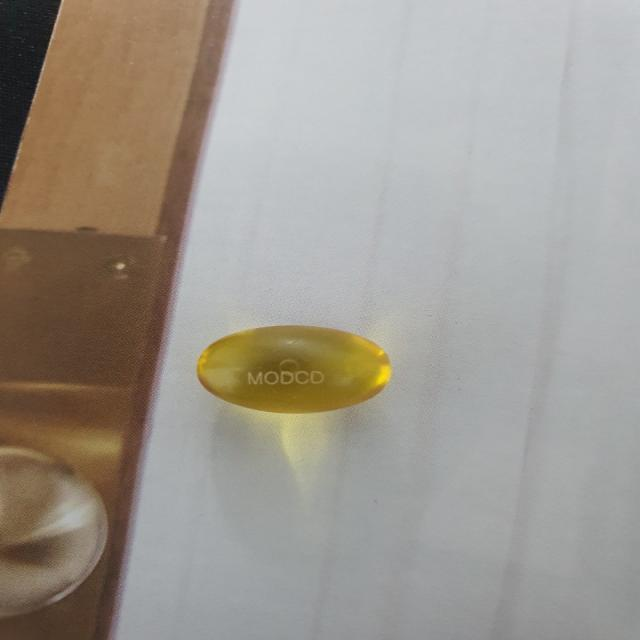pill: (186, 310, 406, 428)
